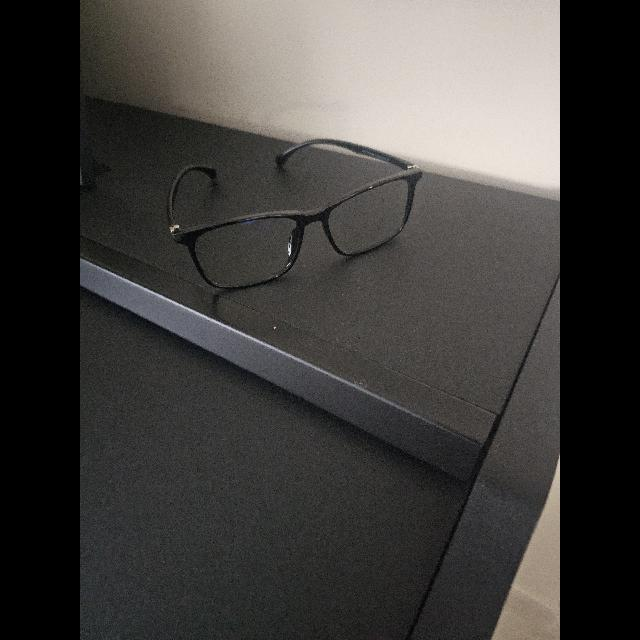glasses: (168, 140, 422, 288)
